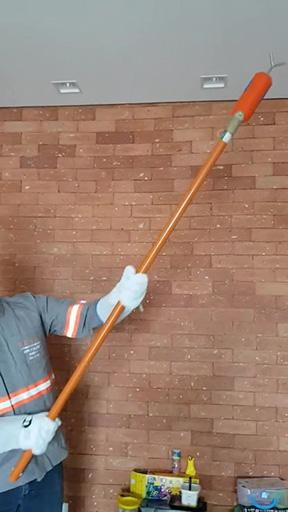Detector_Tensao_Contato: (229, 53, 286, 123)
Vara_Manobra: (10, 123, 240, 483)
